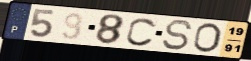5: (29, 7, 58, 38)
8: (93, 13, 126, 46)
9: (61, 11, 87, 41)
C: (124, 17, 158, 48)
O: (191, 22, 223, 54)
S: (160, 19, 194, 52)
